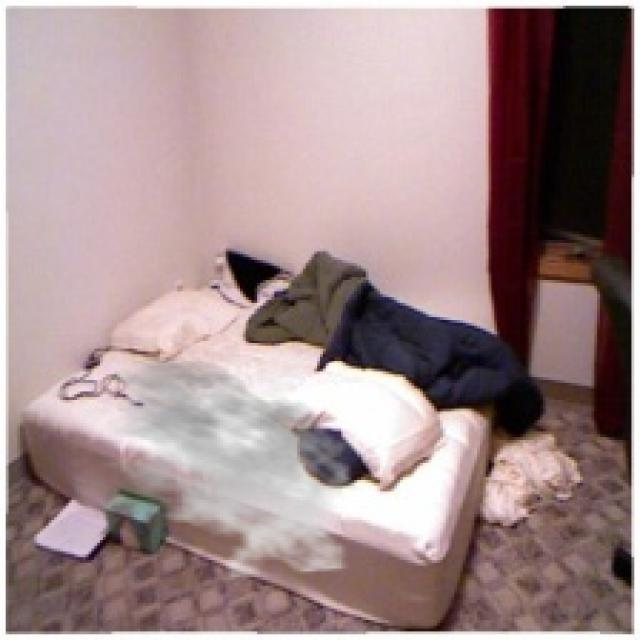Smoke: (88, 351, 363, 580)
